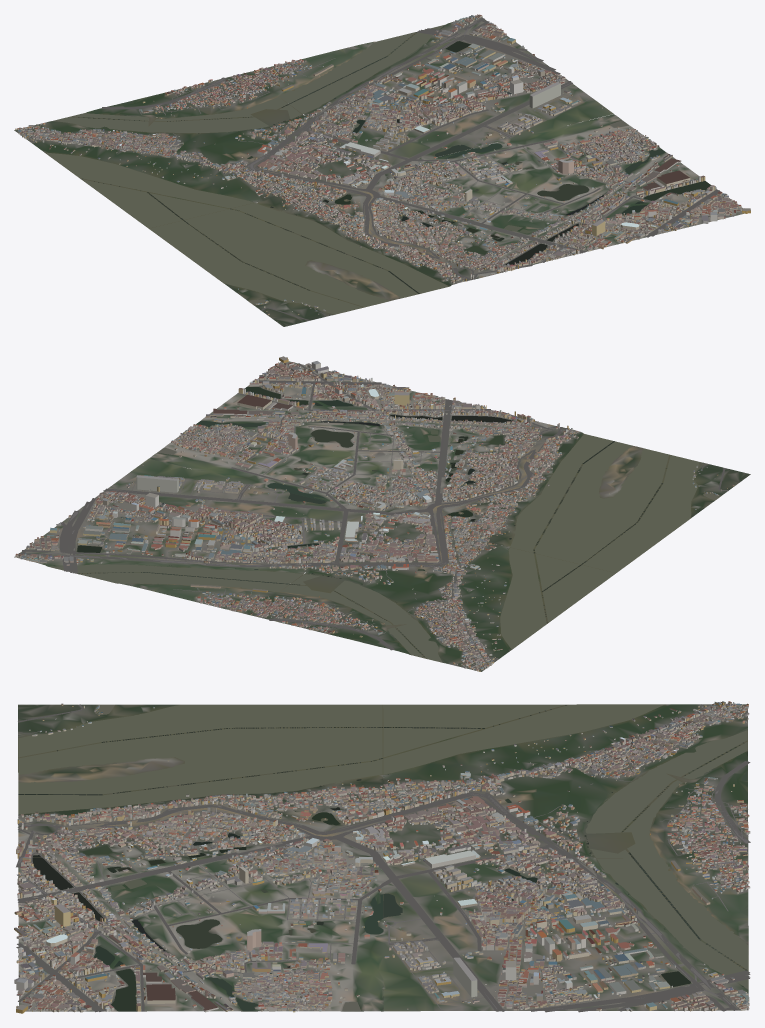
3 views of the same model, one above another, from view 1: azimuth 30°, elevation 25°; view 2: azimuth 150°, elevation 25°; view 3: azimuth 270°, elevation 25° (orthographic). The views are drawn at different scales.
Visible parts, largest first — view 1: ground, buildings, water, roads; view 2: ground, buildings, water, roads; view 3: ground, buildings, water, roads.
Boxes of the visible parts, bbox=[...] form: ground: bbox=[14, 17, 744, 326]; buildings: bbox=[15, 14, 750, 315]; water: bbox=[45, 25, 711, 314]; roads: bbox=[21, 17, 734, 320]; ground: bbox=[14, 361, 750, 671]; buildings: bbox=[15, 356, 734, 671]; water: bbox=[49, 386, 720, 662]; roads: bbox=[18, 363, 728, 666]; ground: bbox=[18, 704, 748, 1011]; buildings: bbox=[14, 701, 750, 1013]; water: bbox=[18, 704, 748, 1011]; roads: bbox=[16, 704, 750, 1012].
Size of the model in its own units: 2828 by 78.97 by 2831.
